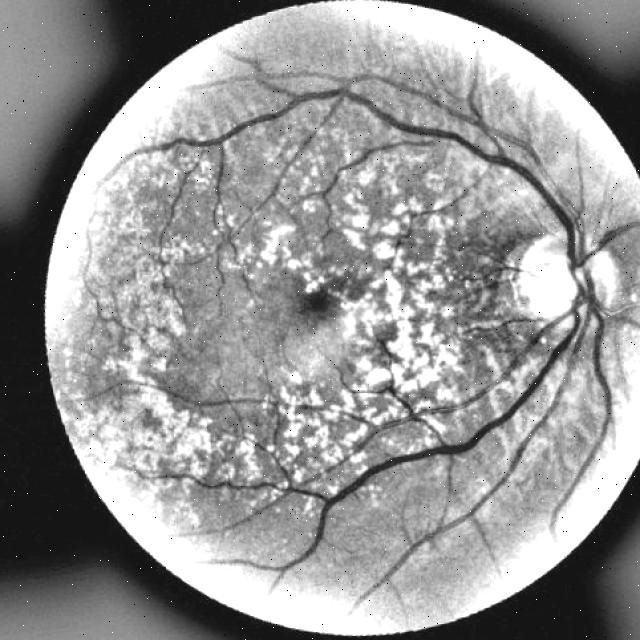Macula: (293, 257, 372, 355)
Nerves: (276, 299, 613, 582), (170, 73, 596, 289), (417, 243, 533, 288)
Optic Disk: (508, 225, 631, 336)
